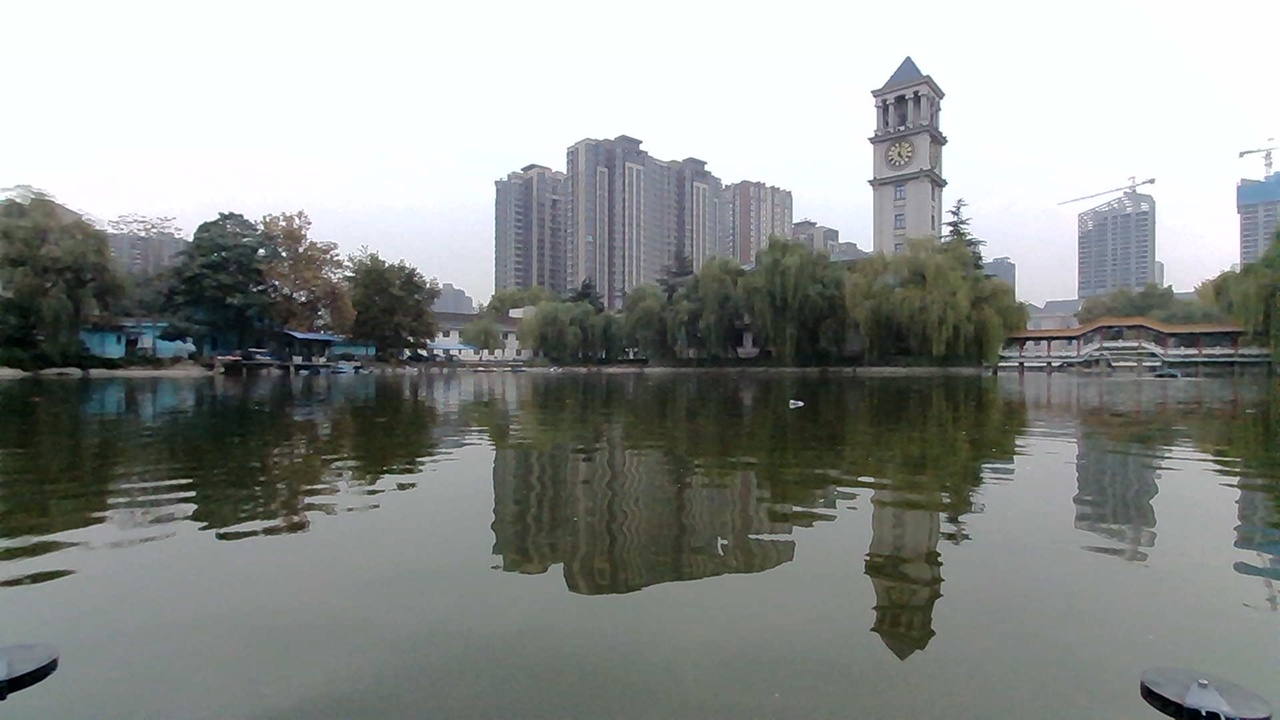bottle: (779, 386, 818, 416)
